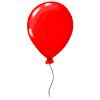red: (27, 1, 72, 60)
